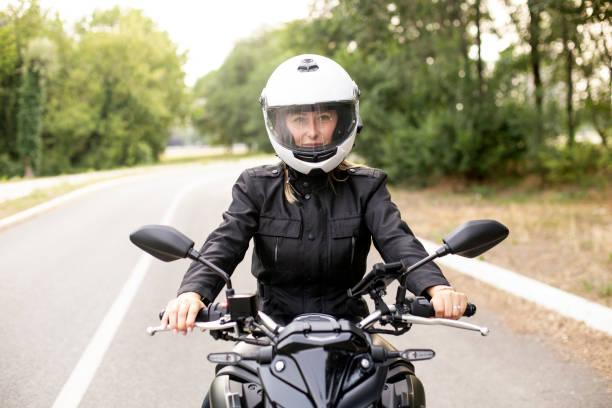Helmet: (259, 52, 362, 175)
